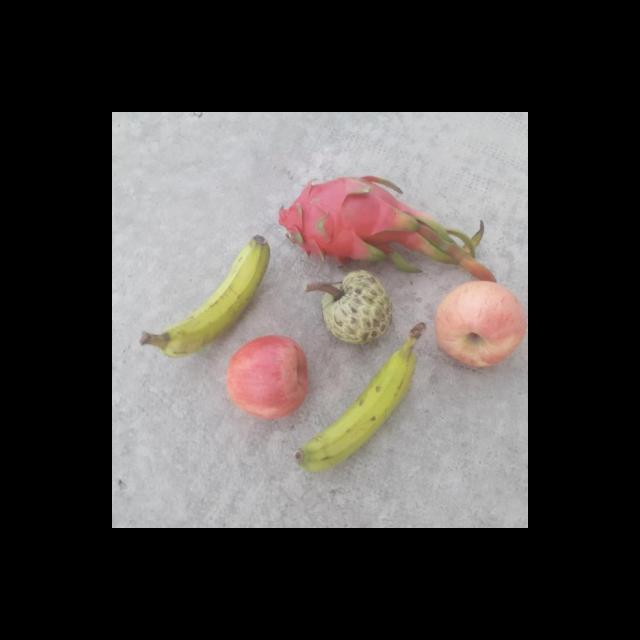Sakya fruit: (304, 270, 393, 348)
apple: (430, 280, 528, 376), (224, 334, 308, 422)
banana: (288, 320, 430, 476), (136, 233, 270, 362)
pitaya: (274, 168, 422, 267)
